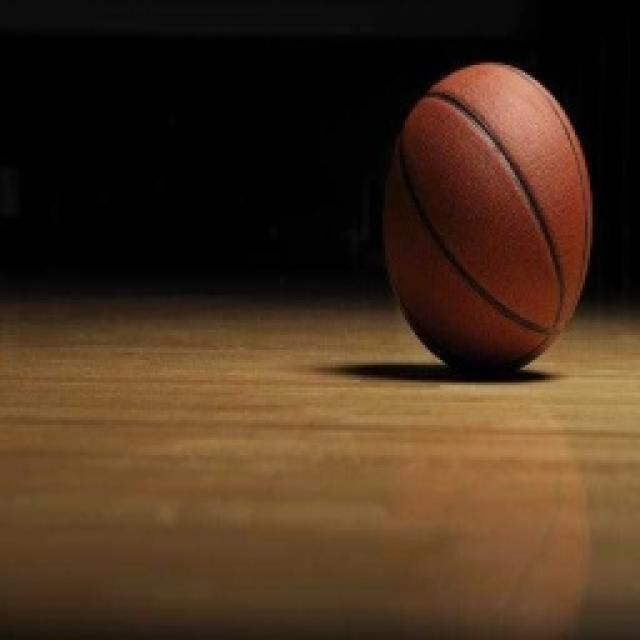rim: (374, 50, 604, 380)
